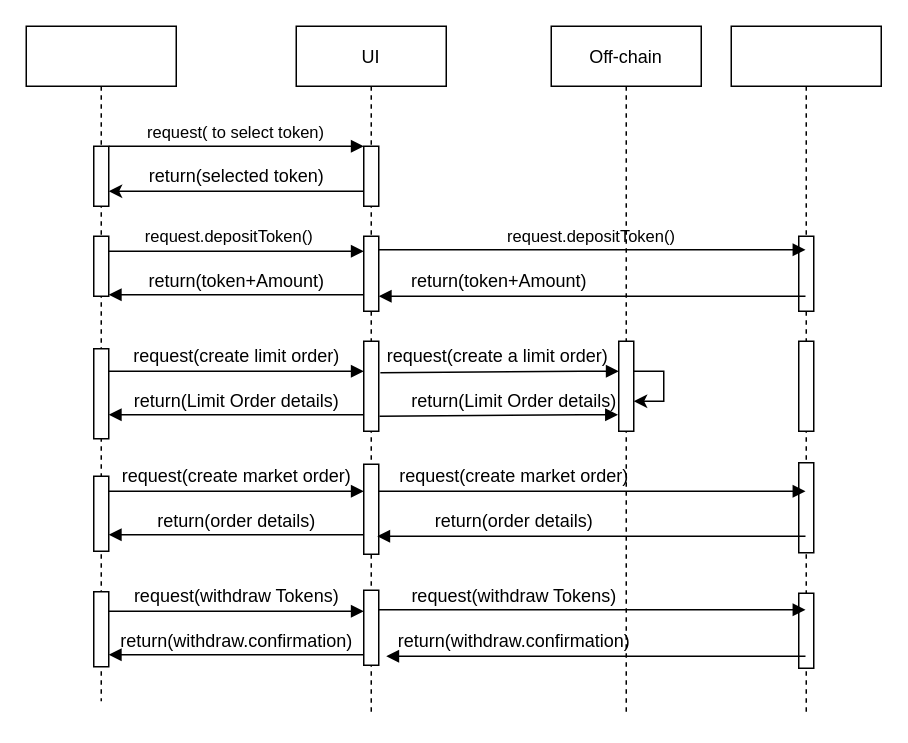
Image size: 908x743. Some labels were removed from this diagram. Here are the shapes that lost their labels. From the top down, the box of each, then its label:
(25, 25, 176, 701): User
(730, 25, 881, 716): Smart Contract
